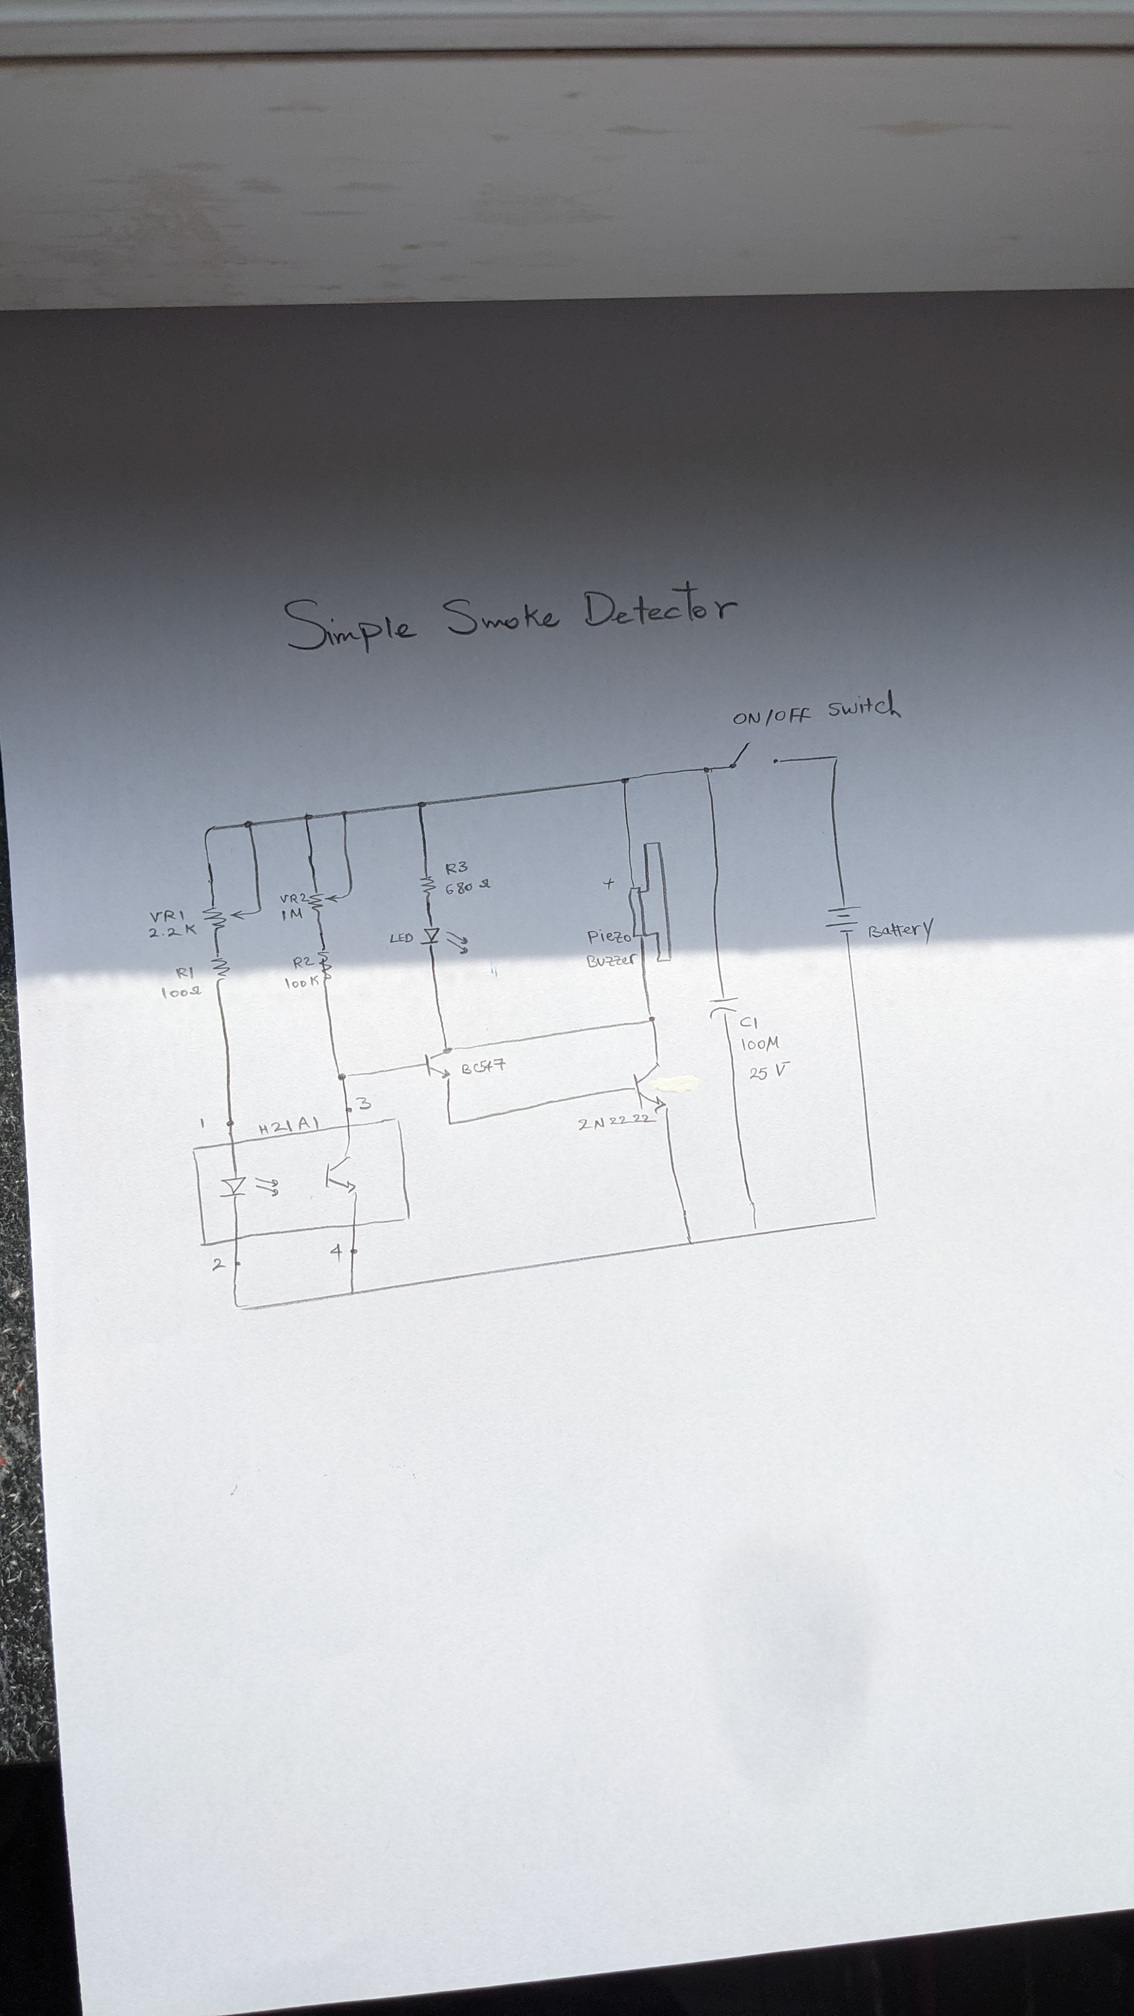capacitor.unpolarized: (706, 993, 742, 1022)
diode.light_emitting: (418, 924, 471, 955)
integrated_circuit: (190, 1115, 414, 1248)
junction: (233, 1300, 253, 1314), (334, 1070, 352, 1084), (618, 774, 633, 786), (202, 824, 217, 836), (701, 764, 714, 777), (750, 1224, 763, 1238), (647, 1011, 658, 1026), (302, 811, 316, 822), (871, 1209, 882, 1223), (829, 752, 842, 763), (415, 799, 428, 810), (343, 886, 354, 899), (242, 818, 255, 829), (685, 1236, 696, 1248), (444, 1117, 456, 1128), (348, 1288, 359, 1297), (339, 809, 350, 817), (255, 906, 264, 914)
optocoupler: (216, 1151, 361, 1205)
resistor: (208, 950, 233, 986), (316, 946, 336, 984), (418, 872, 438, 899)
resistor.adjustable: (199, 901, 246, 933), (307, 889, 341, 915)
speaker: (624, 840, 676, 964)
switch: (728, 739, 785, 773)
text: (282, 579, 741, 656), (730, 685, 903, 728), (865, 915, 939, 947), (577, 1110, 656, 1133), (258, 1115, 321, 1135), (748, 1058, 793, 1081), (460, 1055, 507, 1076), (444, 876, 492, 896), (584, 953, 638, 969), (147, 922, 199, 939), (739, 1033, 781, 1054), (584, 928, 631, 946), (161, 983, 202, 1001), (282, 973, 321, 991), (148, 908, 187, 924), (277, 892, 312, 906), (443, 858, 469, 876), (388, 930, 415, 946), (291, 954, 316, 971), (738, 1015, 762, 1032), (353, 1094, 374, 1112), (174, 964, 197, 980), (330, 1241, 346, 1263), (280, 907, 305, 921), (210, 1256, 227, 1272), (198, 1115, 208, 1130)
transistor: (630, 1056, 672, 1113), (424, 1043, 460, 1081)
voltage.dc: (822, 901, 865, 936)
